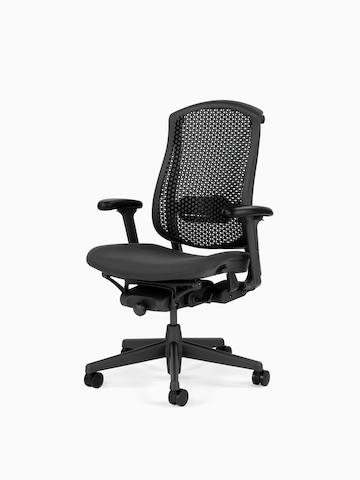chairs: (78, 99, 283, 409)
